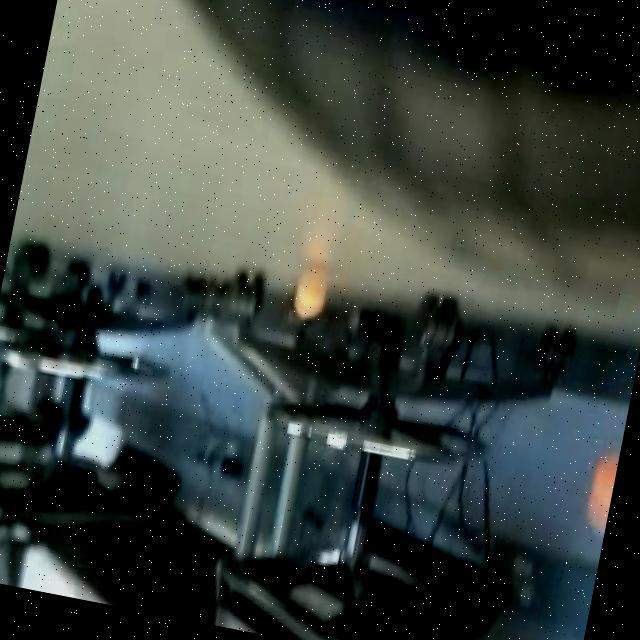ping-pong-ball: (579, 448, 620, 522), (288, 264, 334, 326)
